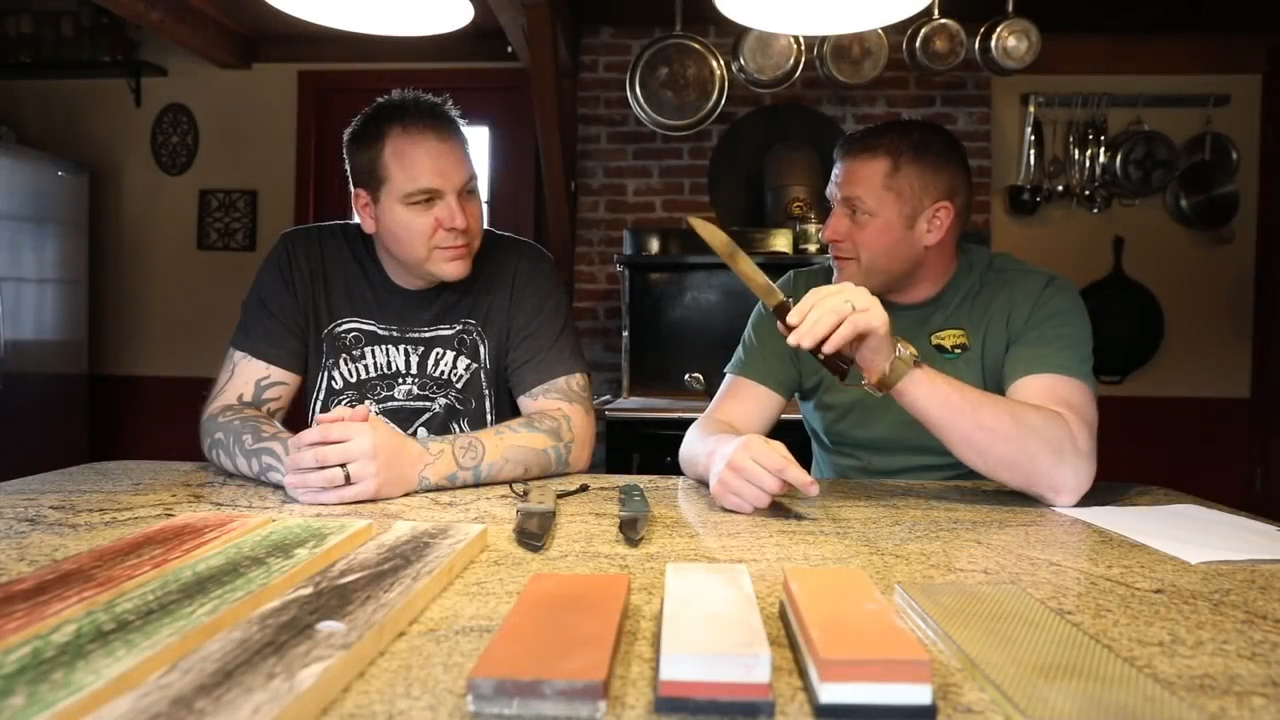knife: (678, 193, 855, 350)
